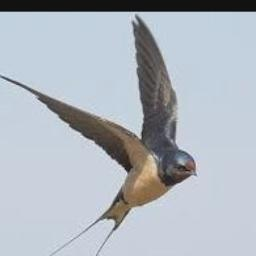Swallow: (0, 12, 197, 256)
